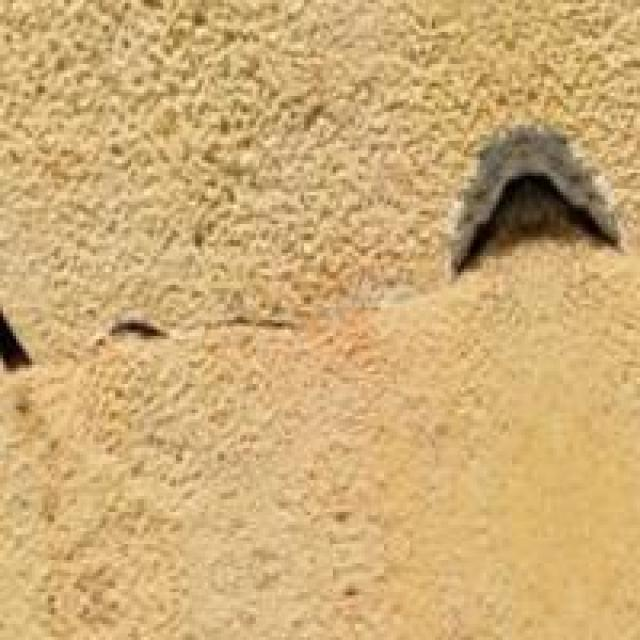crack: (6, 125, 637, 419)
